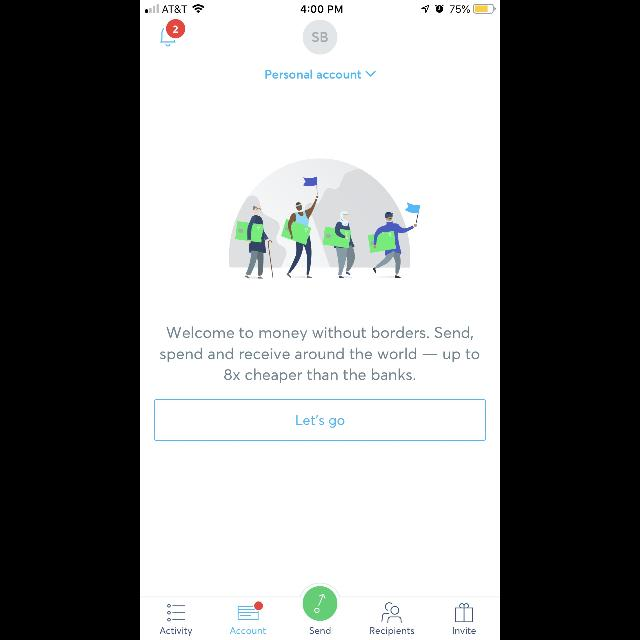icon: (302, 586, 338, 620), (160, 19, 186, 46), (238, 602, 262, 620), (382, 602, 402, 622), (168, 604, 185, 622), (456, 604, 472, 622), (366, 71, 376, 77)
image: (229, 156, 421, 280), (302, 20, 338, 54)
text: (160, 326, 480, 384), (265, 70, 361, 78), (370, 626, 414, 636), (160, 626, 192, 636), (230, 626, 266, 634), (452, 626, 476, 634), (310, 626, 330, 634)
textbutton: (154, 399, 486, 441)
uppertaskbar: (140, 0, 500, 14)
